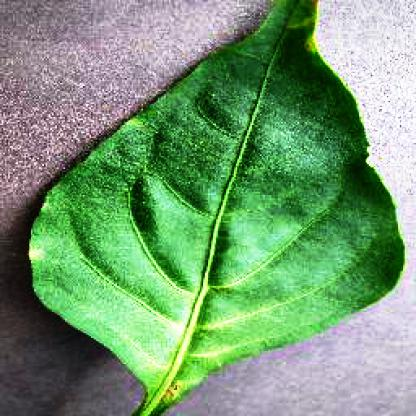Healthy: (26, 0, 404, 415)
